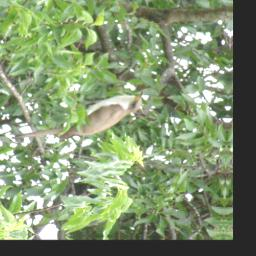Cuckoo: (9, 85, 147, 146)
